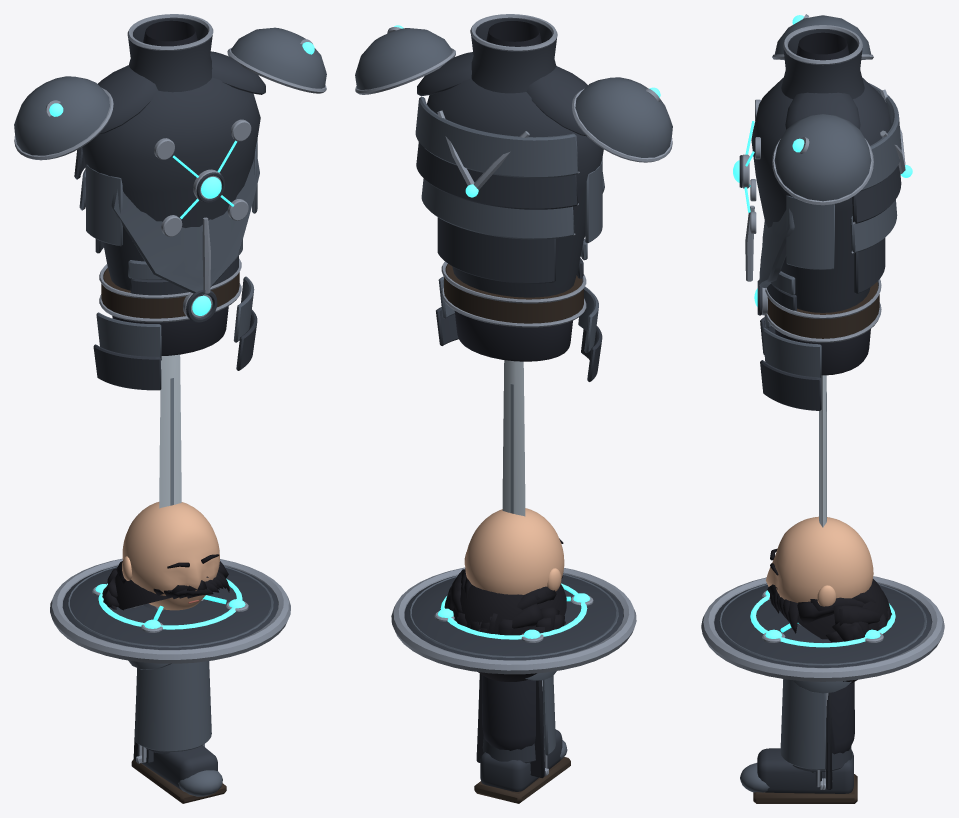
File: kai.glb
3 renders of one model, left to right at view 1: azimuth 30°, elevation 25°; view 2: azimuth 150°, elevation 25°; view 3: azimuth 270°, elevation 25°, orthographic.
Visible parts, largest first — view 1: kai_torso, kai_shield, kai_hips, kai_head, kai_thighL, kai_shinL, kai_blade, kai_hair; view 2: kai_torso, kai_shield, kai_hips, kai_head, kai_hair, kai_thighL, kai_shinL, kai_blade, kai_panel0; view 3: kai_torso, kai_shield, kai_hips, kai_head, kai_thighL, kai_shinL, kai_hair, kai_blade, kai_panel0, kai_upperArmR.
Boxes of the visible parts, bbox=[...] form: kai_torso: bbox=[14, 14, 326, 295]; kai_shield: bbox=[50, 558, 290, 663]; kai_hips: bbox=[93, 258, 257, 390]; kai_head: bbox=[122, 502, 219, 610]; kai_thighL: bbox=[134, 661, 211, 751]; kai_shinL: bbox=[131, 606, 226, 803]; kai_blade: bbox=[159, 354, 181, 508]; kai_hair: bbox=[102, 561, 229, 610]; kai_torso: bbox=[355, 14, 672, 297]; kai_shield: bbox=[391, 567, 636, 674]; kai_hips: bbox=[436, 261, 602, 381]; kai_head: bbox=[464, 508, 564, 594]; kai_hair: bbox=[444, 568, 566, 681]; kai_thighL: bbox=[478, 673, 555, 755]; kai_shinL: bbox=[474, 729, 570, 803]; kai_blade: bbox=[502, 360, 525, 516]; kai_panel0: bbox=[476, 673, 547, 778]; kai_torso: bbox=[733, 14, 912, 312]; kai_shield: bbox=[701, 576, 944, 681]; kai_hips: bbox=[754, 279, 881, 410]; kai_head: bbox=[766, 516, 873, 606]; kai_thighL: bbox=[780, 679, 854, 769]; kai_shinL: bbox=[740, 746, 857, 803]; kai_hair: bbox=[767, 579, 891, 683]; kai_blade: bbox=[819, 375, 826, 527]; kai_panel0: bbox=[823, 692, 832, 789]; kai_upperArmR: bbox=[792, 680, 851, 693].
Bounding box in the file's own units: 0.9064 × 2.14 × 0.63.
